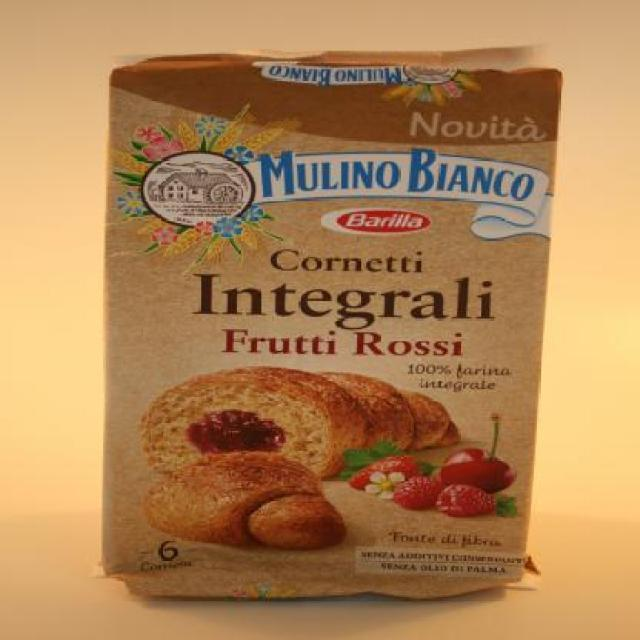Merendine: (101, 53, 564, 599)
